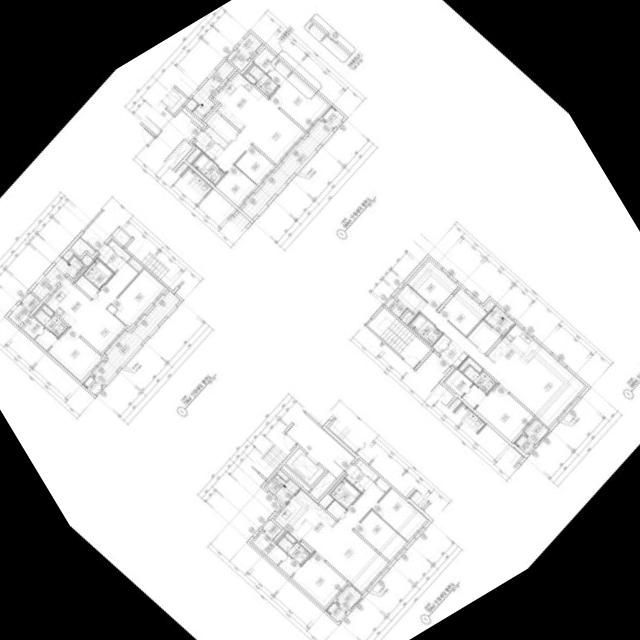background: (0, 0, 640, 640)
space_balconi: (241, 119, 334, 219), (92, 290, 180, 385), (192, 59, 235, 119), (31, 256, 84, 300), (266, 474, 299, 504), (483, 306, 514, 336), (336, 585, 362, 612), (237, 32, 262, 58), (524, 419, 548, 444), (8, 303, 30, 326)
space_bedroom: (269, 72, 328, 130), (475, 384, 533, 442), (291, 552, 347, 607), (112, 269, 165, 327), (48, 327, 102, 381), (372, 488, 426, 541), (354, 510, 407, 561), (408, 260, 458, 309), (439, 288, 487, 336), (215, 165, 256, 206), (235, 145, 274, 184)
space_dressroom: (252, 532, 300, 576), (444, 368, 486, 408), (253, 47, 291, 85), (23, 317, 57, 350)
space_elevator: (285, 447, 325, 485)
space_elevator_hall: (286, 412, 355, 478)
space_front: (97, 240, 130, 273), (194, 130, 224, 160), (344, 463, 373, 492), (440, 340, 468, 368)
space_kitchen: (273, 489, 336, 547), (214, 72, 268, 130), (487, 324, 541, 379), (45, 277, 91, 325)
space_living_room: (396, 284, 584, 427), (312, 481, 388, 592), (214, 99, 304, 172), (69, 262, 138, 353)
space_other: (467, 319, 501, 353), (205, 111, 238, 143), (281, 464, 311, 491), (309, 471, 336, 500), (75, 275, 99, 298), (355, 459, 378, 481), (227, 49, 249, 71), (205, 126, 228, 147), (70, 237, 95, 256), (181, 107, 204, 127), (385, 297, 407, 317), (326, 500, 346, 519), (21, 292, 40, 312), (262, 519, 281, 539), (111, 227, 130, 246), (458, 357, 482, 372), (432, 333, 450, 352), (186, 148, 201, 164), (375, 477, 390, 492), (128, 258, 142, 272), (185, 98, 198, 111), (401, 310, 413, 323), (300, 541, 313, 553), (62, 249, 74, 261), (284, 532, 296, 543), (244, 72, 256, 83), (42, 305, 54, 316), (81, 255, 93, 266), (277, 470, 288, 481), (484, 301, 494, 311)
space_outdoor_room: (322, 106, 344, 128), (514, 434, 534, 454), (326, 602, 346, 621), (83, 376, 102, 395)
space_staircase: (367, 307, 431, 367)
space_toilet: (192, 152, 225, 184), (409, 312, 442, 344), (83, 258, 114, 289), (330, 478, 361, 509), (248, 64, 278, 96), (277, 536, 310, 565), (463, 365, 496, 394), (34, 309, 68, 337)
